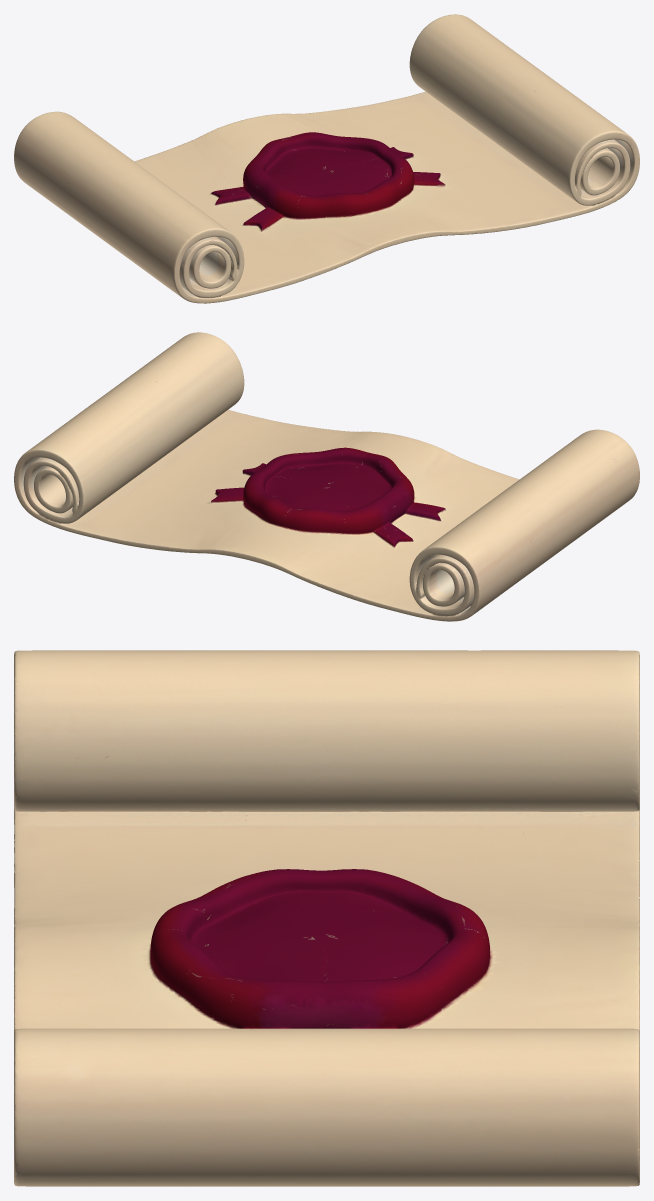
The model's file is accessories_set_6_item_09.glb.
3 renders of one model, top to bottom at view 1: azimuth 30°, elevation 25°; view 2: azimuth 150°, elevation 25°; view 3: azimuth 270°, elevation 25°, orthographic. The views are drawn at different scales.
Bounding box in the file's own units: 1.9 × 0.2984 × 1.13.
Materials: 1 (1 with a texture image).
